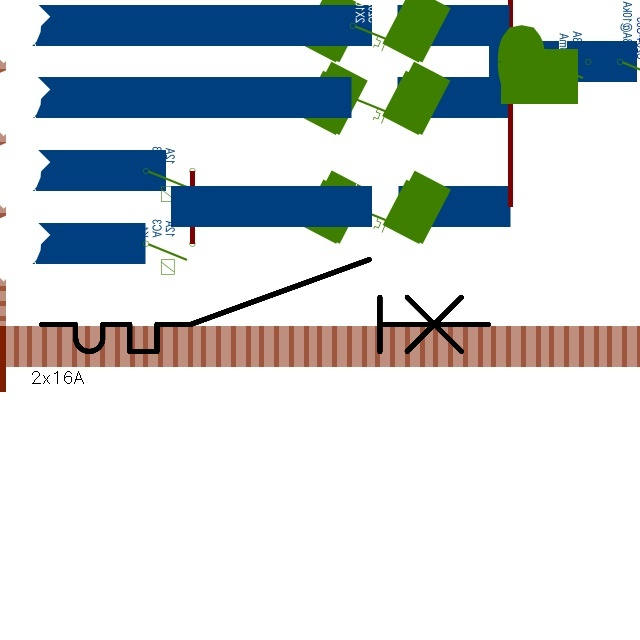interruptor_termomagnetico: (30, 248, 499, 363)
